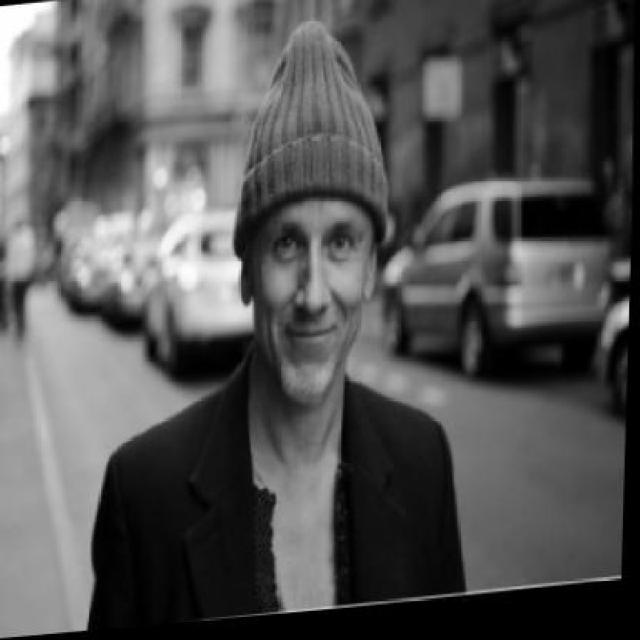hat: (226, 15, 397, 262)
